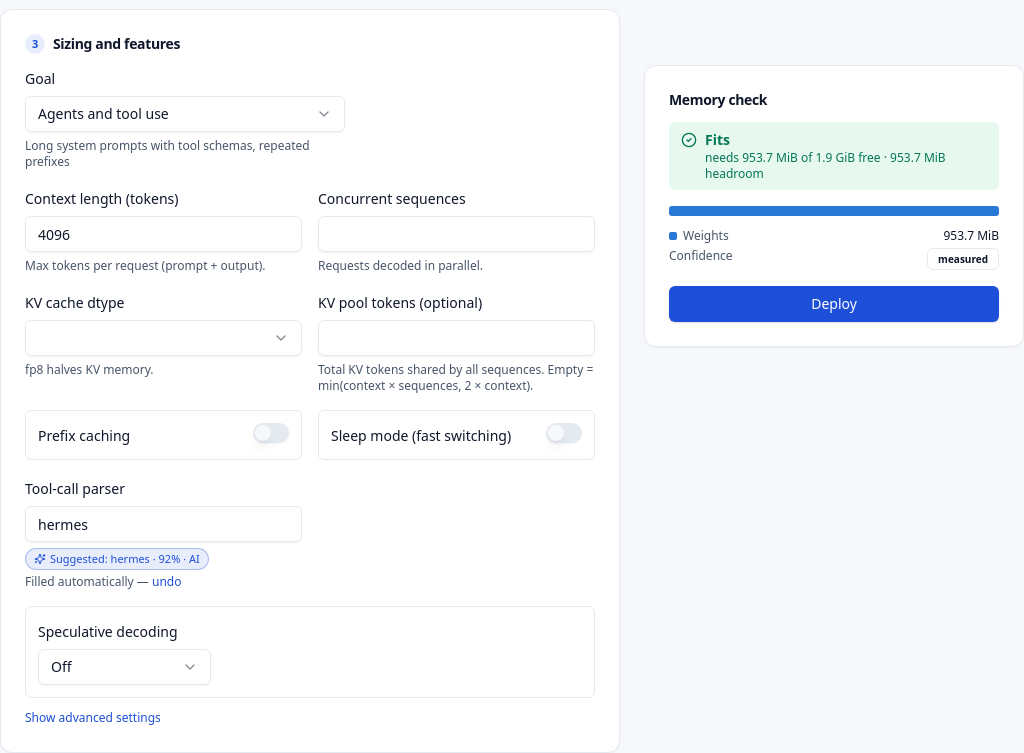
Test: DeployWizard — parser suggestions › asks for suggestions for the chosen model and engine, auto-fills an empty field and can undo
(page scrolled)
Expected: the text "Suggested: hermes · 92% · AI" is shown, left=25, top=548, right=209, bottom=570
Expected: the field labelled "Tool-call parser" holds "hermes", left=25, top=506, right=302, bottom=542
Click the button with aria-label "Undo: clear the automatic Tool-call parser" at (167, 582), box left=152, top=574, right=182, bottom=590
(page scrolled)
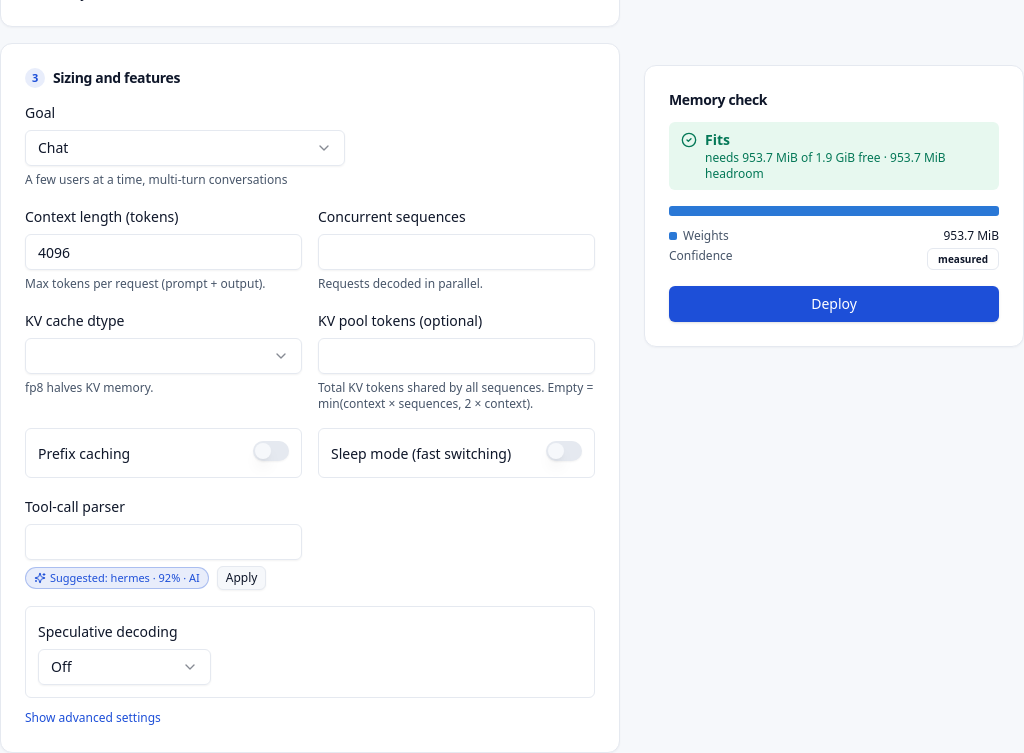
Now the field labelled "Tool-call parser" is empty, box left=25, top=524, right=302, bottom=560
Now the button with aria-label "Apply suggested Tool-call parser: hermes" is shown, box left=217, top=566, right=266, bottom=590
